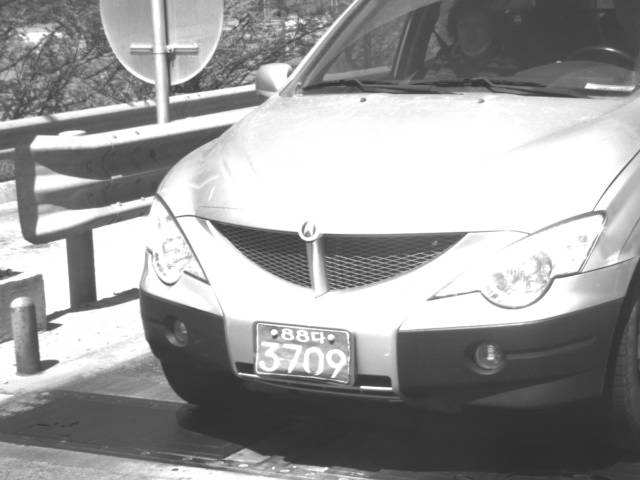car: (137, 1, 638, 459)
plate: (253, 321, 359, 387)
